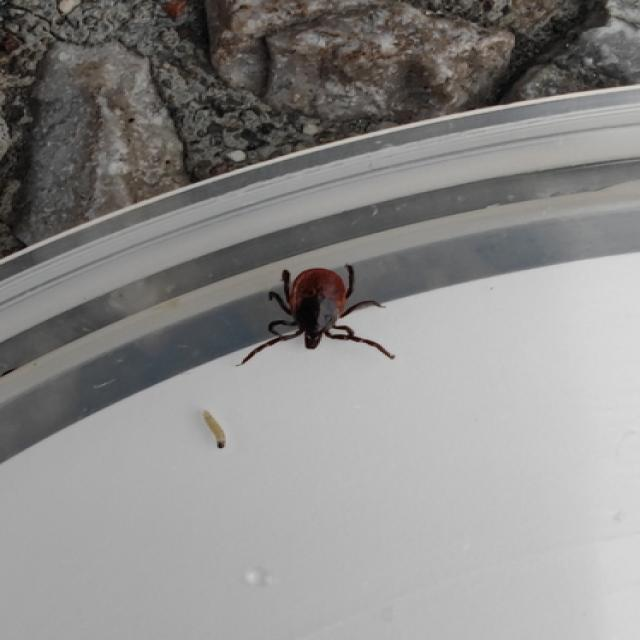Ixodes Ricinus-F: (246, 268, 395, 360)
